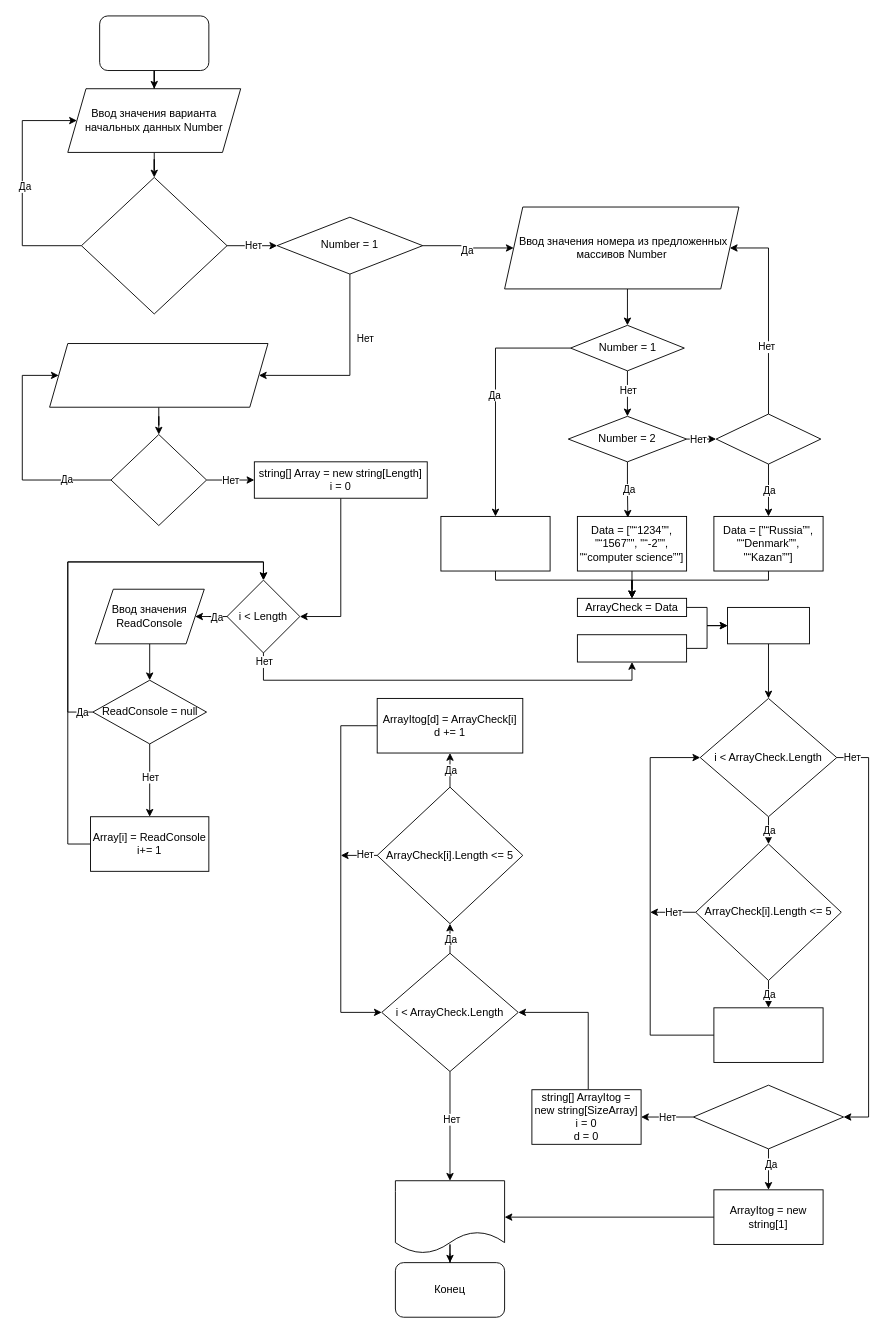
Image size: 892x1333. Some labels were removed from this diagram. Each missing label, with the box of its shape:
ArrayCheck = Array: (576, 634, 687, 662)
Data = ["“Hello”", "“2”", "“world”", "“:-)”"]: (440, 516, 550, 571)
i = 0 SizeArray = 0: (727, 607, 809, 644)
Length < 2: (110, 434, 207, 526)
Number != 1 & Numer != 2: (81, 177, 227, 314)
Number =3: (715, 413, 821, 464)
SizeArray += 1: (713, 1007, 823, 1062)
SizeArray = 0: (693, 1084, 844, 1149)
Ввод размера массива Length: (49, 343, 268, 407)
Вывод ArrayItog: (394, 1180, 505, 1254)
Начало: (99, 15, 209, 71)
